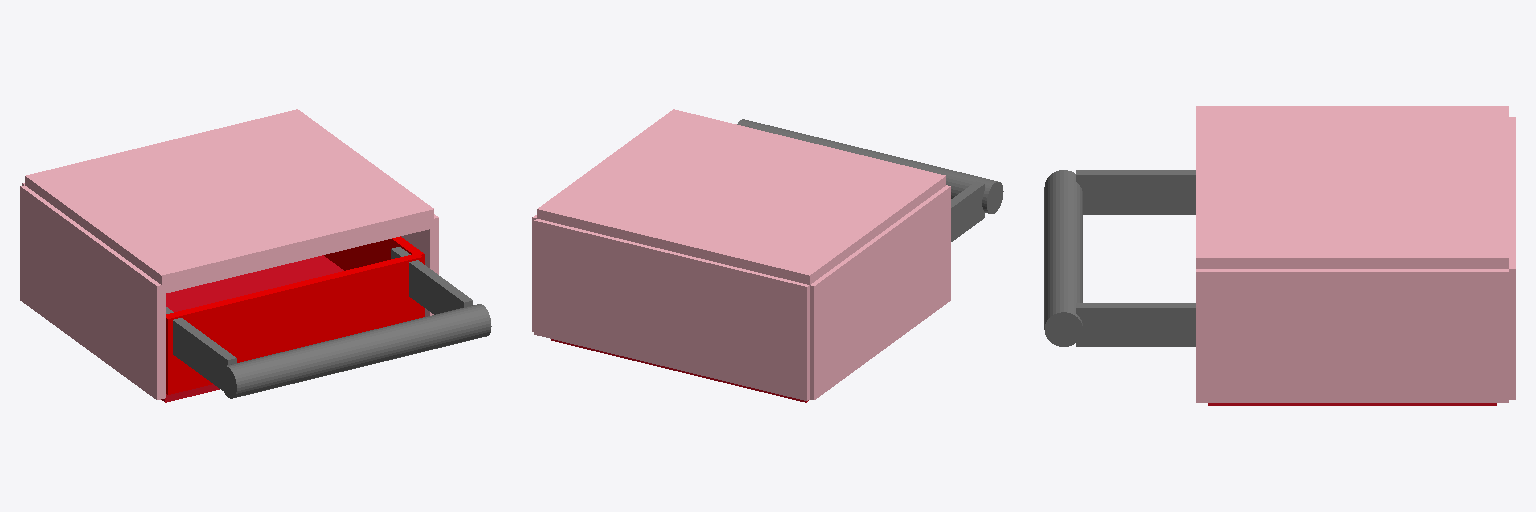
URDF robot description (bowl.urdf):
<?xml version="0.0" ?>
<robot name="bowl.urdf">
  <material name="mainColor">
    <color rgba="1. .75 .8 1."/>
  </material>
  <material name="baseColor">
    <color rgba="1. 0. 0. 1."/>
  </material>
  <material name="grey">
    <color rgba=".86 .08 .16 1."/>
  </material>
  <material name="brown">
    <color rgba=".5 .5 .5 1."/>
  </material>

  <link name="world"/>

  <link name="base">
    <contact>
      <rolling_friction value="10.0"/>
      <lateral_friction value="10.0"/>
      <spinning_friction value="10.0"/>
    </contact>
    <inertial>
      <origin rpy="0 0 0" xyz="0.0 0.0 0.0"/>
       <mass value="0.1"/>
       <inertia ixx="1" ixy="0" ixz="0" iyy="1" iyz="0" izz="1"/>
    </inertial>
    <!-- bottom -->
    <visual>
      <origin rpy="0 0 0" xyz="0 0 -0.2"/>
      <geometry>
        <box size="1.4 1.2 .1"/>
      </geometry>
      <material name="grey"/>
    </visual>
    <visual>
      <!-- right -->
      <origin rpy="0 0 0" xyz="0 -.6 0"/>
      <geometry>
        <box size="1.4 .05 0.4"/>
      </geometry>
      <material name="baseColor"/>
    </visual>
    <visual>
      <!-- left -->
      <origin rpy="0 0 0" xyz="0 .6 0"/>
      <geometry>
        <box size="1.4 .05 0.4"/>
      </geometry>
      <material name="baseColor"/>
    </visual>
    <visual>
      <!-- front -->
      <origin rpy="0 0 0" xyz=".7 0 0"/>
      <geometry>
        <box size=".05 1.2 0.4"/>
      </geometry>
      <material name="baseColor"/>
    </visual>
    <visual>
      <!-- back -->
      <origin rpy="0 0 0" xyz="-.7 0 0"/>
      <geometry>
        <box size=".05 1.2 0.4"/>
      </geometry>
      <material name="baseColor"/>
    </visual>

    <collision>
      <!--Bottom --> 
      <origin rpy="0 0 0" xyz="0 0 -.2"/>
      <geometry>
        <box size="1.4 1.2 .1"/>
      </geometry>
    </collision>
    <collision>
      <!-- right -->
      <origin rpy="0 0 0" xyz="0 -.6 0"/>
      <geometry>
        <box size="1.4 .05 0.4"/>
      </geometry>
    </collision>
    <collision>
      <!-- left -->
      <origin rpy="0 0 0" xyz="0 .6 0"/>
      <geometry>
        <box size="1.4 .05 0.4"/>
      </geometry>
    </collision>
    <collision>
      <!-- front -->
      <origin rpy="0 0 0" xyz=".7 0 0"/>
      <geometry>
        <box size=".05 1.2 0.4"/>
      </geometry>
    </collision>
    <collision>
      <!-- back -->
      <origin rpy="0 0 0" xyz="-.7 0 0"/>
      <geometry>
        <box size=".05 1.2 0.4"/>
      </geometry>
    </collision>
  </link>

  <link name="handle_r">
    <contact>
      <rolling_friction value="1000.0"/>
      <lateral_friction value="1000.0"/>
      <!-- lateral_friction was key to not making the gripper slide on the handle--> 
      <spinning_friction value="1000.0"/>
      <contact_cfm value="0.0"/>
      <contact_erp value="1.0"/>
    </contact>
    <inertial>
      <origin rpy="0 1.57 0" xyz="0 0 0"/>
      <mass value=".1"/>
      <inertia ixx="1" ixy="0" ixz="0" iyy="1" iyz="0" izz="1"/>
    </inertial>
    <visual>
      <origin rpy="0 1.57 0" xyz="0 0 0"/>
      <geometry>
        <cylinder radius="0.08" length="1.4"/>
      </geometry>
      <material name="brown"/>
    </visual>
    <collision>
      <origin rpy="0 1.57 0" xyz="0 0 0"/>
      <geometry>
        <cylinder radius="0.08" length="1.4"/>
      </geometry>
    </collision>
  </link>

  <link name="handle_plate_far">
    <contact>
      <rolling_friction value="1000.0"/>
      <lateral_friction value="1000.0"/>
      <spinning_friction value="1000.0"/>
      <contact_cfm value="0.0"/>
      <contact_erp value="1.0"/>
    </contact>
    <inertial>
      <origin rpy="0 1.57 0" xyz="0 0 0"/>
      <mass value=".1"/>
      <inertia ixx="1" ixy="0" ixz="0" iyy="1" iyz="0" izz="1"/>
    </inertial>
    <visual>
      <origin rpy="0 0 0" xyz="0 0 0"/>
      <geometry>
        <box size=".05 .7 .18"/>
      </geometry>
      <material name="brown"/>
    </visual>
    <collision>
      <origin rpy="0 0 0" xyz="0 0 0"/>
      <geometry>
        <box size=".05 .7 .18"/>
      </geometry>
    </collision>
  </link>

  <link name="handle_plate_near">
    <contact>
      <rolling_friction value="1000.0"/>
      <lateral_friction value="1000.0"/>
      <spinning_friction value="1000.0"/>
      <contact_cfm value="0.0"/>
      <contact_erp value="1.0"/>
    </contact>
    <inertial>
      <origin rpy="0 1.57 0" xyz="0 0 0"/>
      <mass value=".1"/>
      <inertia ixx="1" ixy="0" ixz="0" iyy="1" iyz="0" izz="1"/>
    </inertial>
    <visual>
      <origin rpy="0 0 0" xyz="0 0 0"/>
      <geometry>
        <box size=".05 .7 .18"/>
      </geometry>
      <material name="brown"/>
    </visual>
    <collision>
      <origin rpy="0 0 0" xyz="0 0 0"/>
      <geometry>
        <box size=".05 .7 .18"/>
      </geometry>
    </collision>
  </link>

  <link name="frame">
    <contact>
      <lateral_friction value="0.5"/>
      <rolling_friction value="0.0"/>
      <contact_cfm value="0.0"/>
      <contact_erp value="1.0"/>
    </contact>
    <inertial>
      <origin rpy="0 0 0" xyz="0.0 0.0 0.0"/>
       <mass value=".1"/>
       <inertia ixx="1" ixy="0" ixz="0" iyy="1" iyz="0" izz="1"/>
    </inertial>
    <visual>
      <!--Top-->
      <origin rpy="0 0 0" xyz="0 0 .3"/>
      <geometry>
        <box size="1.5 1.3 .1"/>
      </geometry>
      <material name="mainColor"/>
    </visual>
    <visual>
      <!--Right-->
      <origin rpy="0 0 0" xyz="0 .65 0"/>
      <geometry>
        <box size="1.5 .05 .6"/>
      </geometry>
      <material name="mainColor"/>
    </visual>
    <visual>
      <!--Front-->
      <origin rpy="0 0 0" xyz=".75 0 0"/>
      <geometry>
        <box size=".05 1.3 .6"/>
      </geometry>
      <material name="mainColor"/>
    </visual>
    <visual>
      <!--Back-->
      <origin rpy="0 0 0" xyz="-.75 0 0"/>
      <geometry>
        <box size=".05 1.3 .6"/>
      </geometry>
      <material name="mainColor"/>
    </visual>

    <collision>
      <!--Top-->
      <origin rpy="0 0 0" xyz="0 0 .3"/>
      <geometry>
        <box size="1.5 1.3 .1"/>
      </geometry>
    </collision>
    <collision>
      <!--Right-->
      <origin rpy="0 0 0" xyz="0 .65 0"/>
      <geometry>
        <box size="1.5 .05 .6"/>
      </geometry>
    </collision>
    <collision>
      <!--Front-->
      <origin rpy="0 0 0" xyz=".75 0 0"/>
      <geometry>
        <box size=".05 1.3 .6"/>
      </geometry>
    </collision>
    <collision>
      <!--Back-->
      <origin rpy="0 0 0" xyz="-.75 0 0"/>
      <geometry>
        <box size=".05 1.3 .6"/>
      </geometry>
    </collision>
  </link>

  <joint name="frame_joint" type="fixed">
    <parent link="world"/>
    <child link="frame"/>
  </joint>

  <joint name="base_frame_joint" type="prismatic">
    <origin rpy="0 0 0" xyz="0 0 -.1"/>
    <parent link="frame"/>
    <child link="base"/>
    <axis rpy="0 0 0" xyz="0 1 0"/>
    <limit effort="100" lower="-1.25" upper="0" velocity="100"/>
    <dynamics damping="0.0" friction=".01"/>
  </joint>

  <joint name="handle_plate_far_joint" type="fixed">
    <origin rpy="0 0 0" xyz="-0.65 -0.8 0.1"/>
    <parent link="base"/>
    <child link="handle_plate_far"/>
  </joint>

  <joint name="handle_plate_near_joint" type="fixed">
    <origin rpy="0 0 0" xyz="0.65 -0.8 0.1"/>
    <parent link="base"/>
    <child link="handle_plate_near"/>
  </joint>

  <joint name="handle_r_joint" type="fixed">
    <origin rpy="0 0 0" xyz="0 -1.2 0.1"/>
    <parent link="base"/>
    <child link="handle_r"/>
  </joint>

</robot>

--- Render facts (derived) ---
3 views of the same robot in one strip: view 1: azimuth 30°, elevation 25°; view 2: azimuth 150°, elevation 25°; view 3: azimuth 270°, elevation 25° (orthographic).
Robot: bowl.urdf — 6 links, 5 joints (1 prismatic, 4 fixed); root link world; default pose: every joint at zero.
Links seen in each view (by area): view 1: frame, base, handle_r, handle_plate_far, handle_plate_near; view 2: frame, handle_r, handle_plate_far; view 3: frame, handle_r, handle_plate_far, handle_plate_near, base.
Boxes of the visible links, x1=… form: frame: x1=20, y1=109, x2=438, y2=399; base: x1=161, y1=236, x2=424, y2=402; handle_r: x1=220, y1=304, x2=491, y2=398; handle_plate_far: x1=166, y1=307, x2=236, y2=390; handle_plate_near: x1=391, y1=247, x2=472, y2=314; frame: x1=532, y1=109, x2=950, y2=400; handle_r: x1=737, y1=119, x2=1003, y2=213; handle_plate_far: x1=951, y1=181, x2=984, y2=241; frame: x1=1196, y1=106, x2=1515, y2=402; handle_r: x1=1044, y1=170, x2=1082, y2=346; handle_plate_far: x1=1076, y1=170, x2=1195, y2=214; handle_plate_near: x1=1076, y1=303, x2=1195, y2=346; base: x1=1208, y1=403, x2=1496, y2=405.
Bounding box of the posed robot: 1.55 × 1.96 × 0.7 m (x, y, z).
Geometry: primitives only (box / cylinder / sphere), no mesh files.